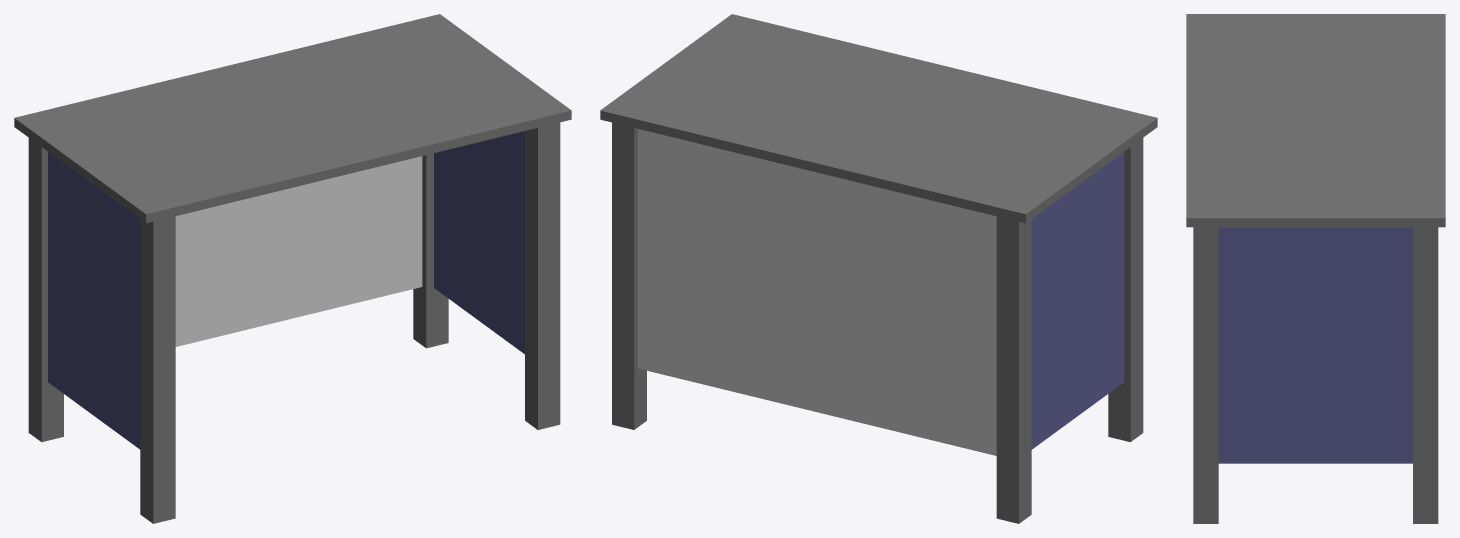
Rendered from Bus_Stop.fbx.
The picture shows the model from 3 angles, left to right: view 1: azimuth 30°, elevation 25°; view 2: azimuth 150°, elevation 25°; view 3: azimuth 270°, elevation 25°; orthographic projection.
Visible parts, largest first — view 1: pCube9; view 2: pCube9; view 3: pCube9.
Part boxes in pixels (box(x1,y1,x2,y2)): pCube9: box(14, 14, 571, 523); pCube9: box(600, 14, 1157, 523); pCube9: box(1186, 14, 1445, 523).
Size of the model in its own units: 154 by 109 by 82.61.
